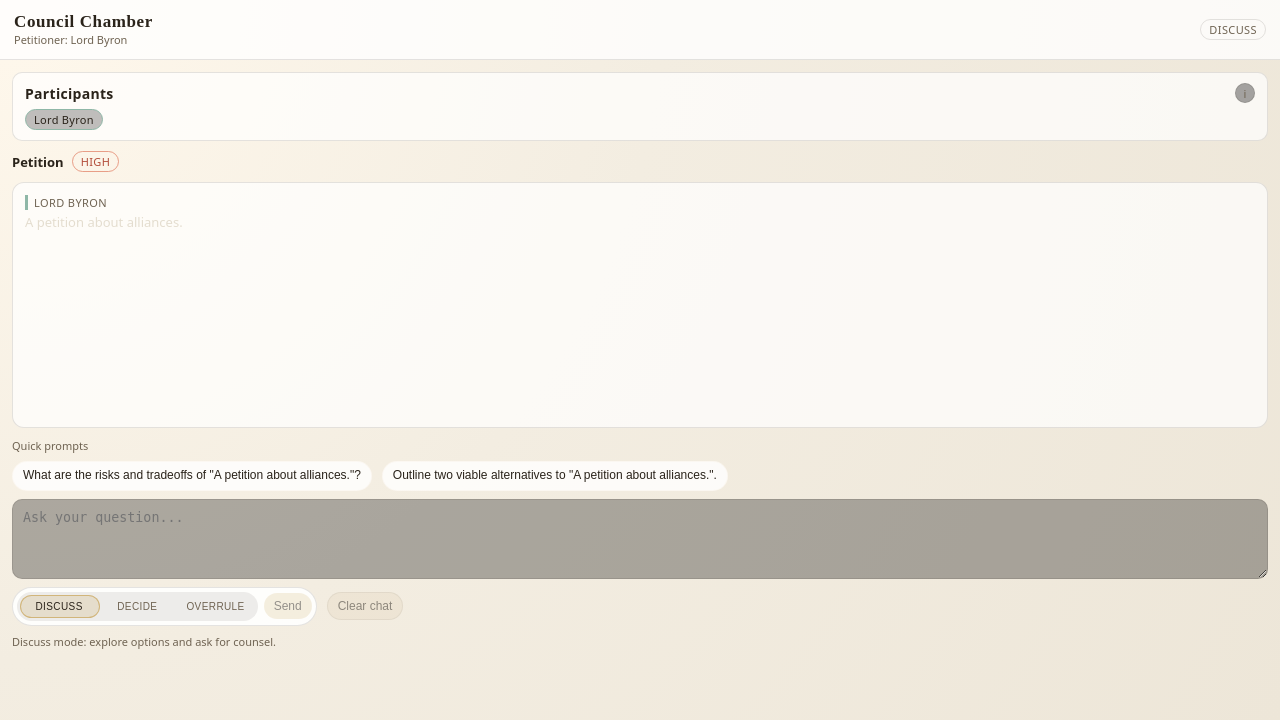
ChatPanel › switches message modes via the slider
Check: the heading "Council Chamber" is shown, box top-left (14, 12), bottom-right (153, 32)
Check: the text "Discuss" is shown, box top-left (1200, 19), bottom-right (1266, 40)
Click the radio button labelled "Decide" at (137, 606), box top-left (98, 595), bottom-right (176, 618)
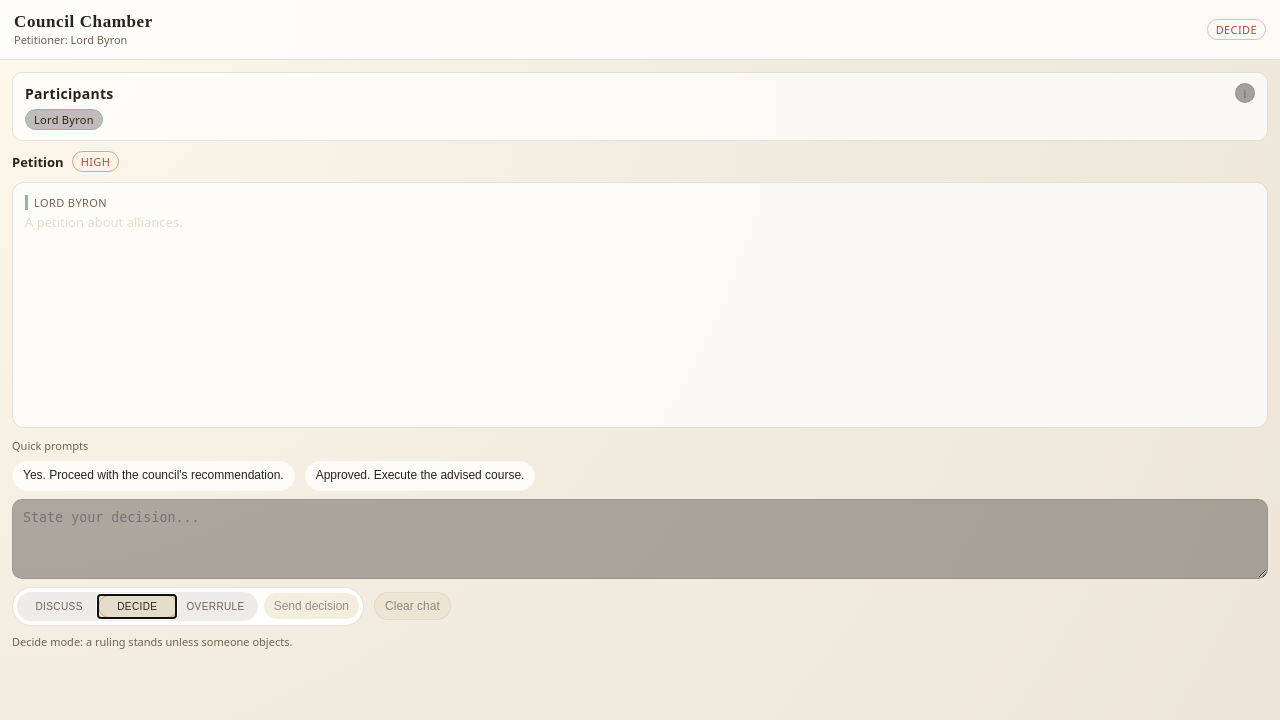
Check: the text "Decide" is shown, box top-left (1207, 19), bottom-right (1266, 40)
Click the radio button labelled "Overrule" at (216, 606), box top-left (176, 595), bottom-right (255, 618)
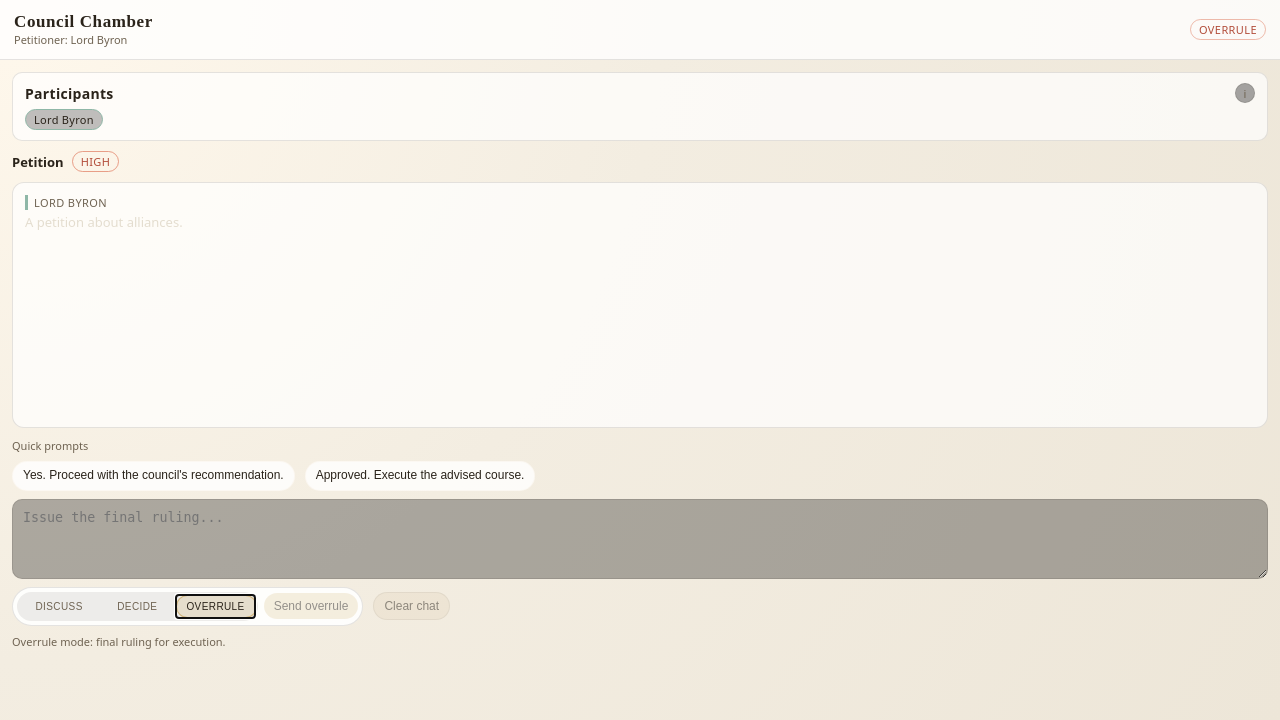
Check: the text "Overrule" is shown, box top-left (1190, 19), bottom-right (1266, 40)
Click the radio button labelled "Discuss" at (59, 606), box top-left (20, 595), bottom-right (98, 618)
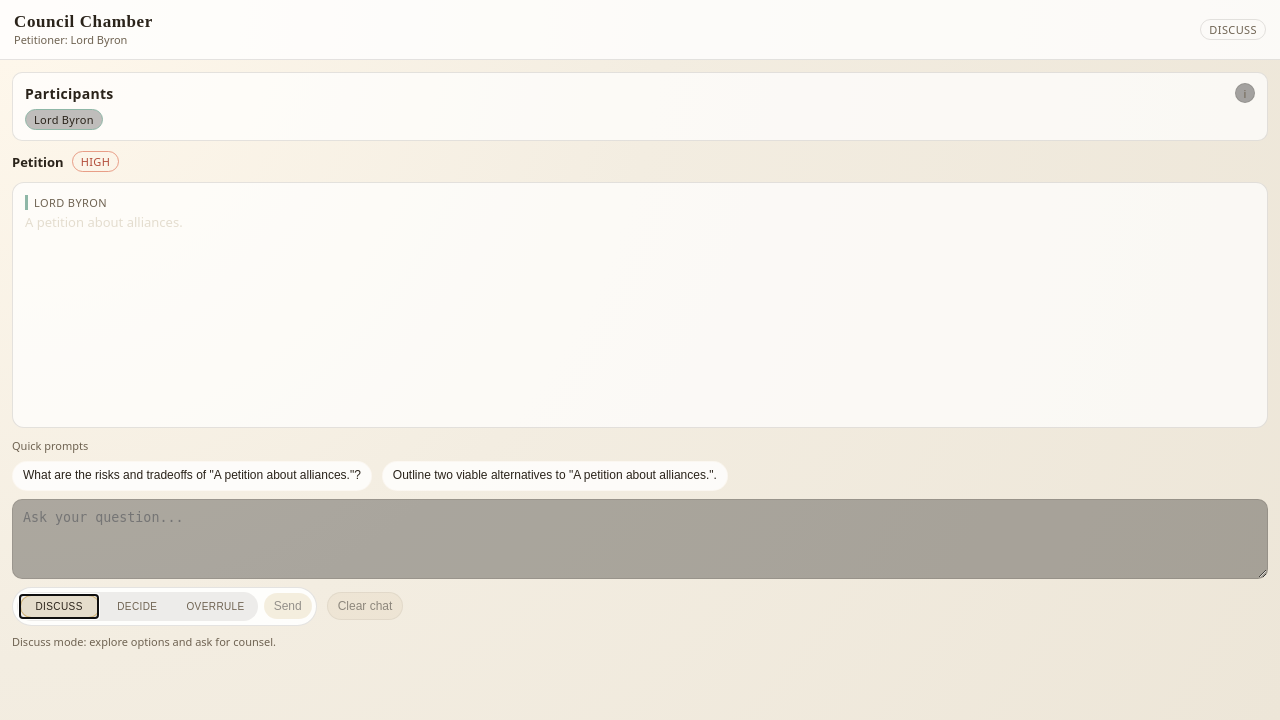
Check: the text "Discuss" is shown, box top-left (1200, 19), bottom-right (1266, 40)
